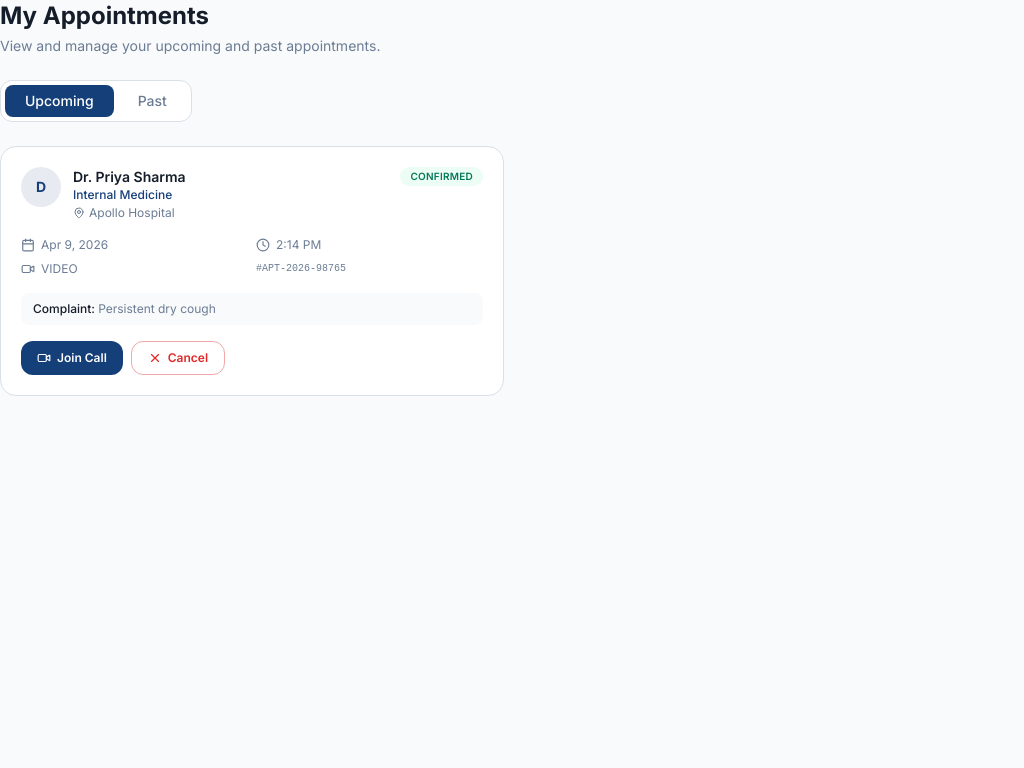
Test: PatientAppointmentsPage › opens cancel modal when Cancel is clicked
This screenshot has width=1024, height=768.
Click the button "Cancel" at x=178, y=358, box [131, 341, 225, 375]
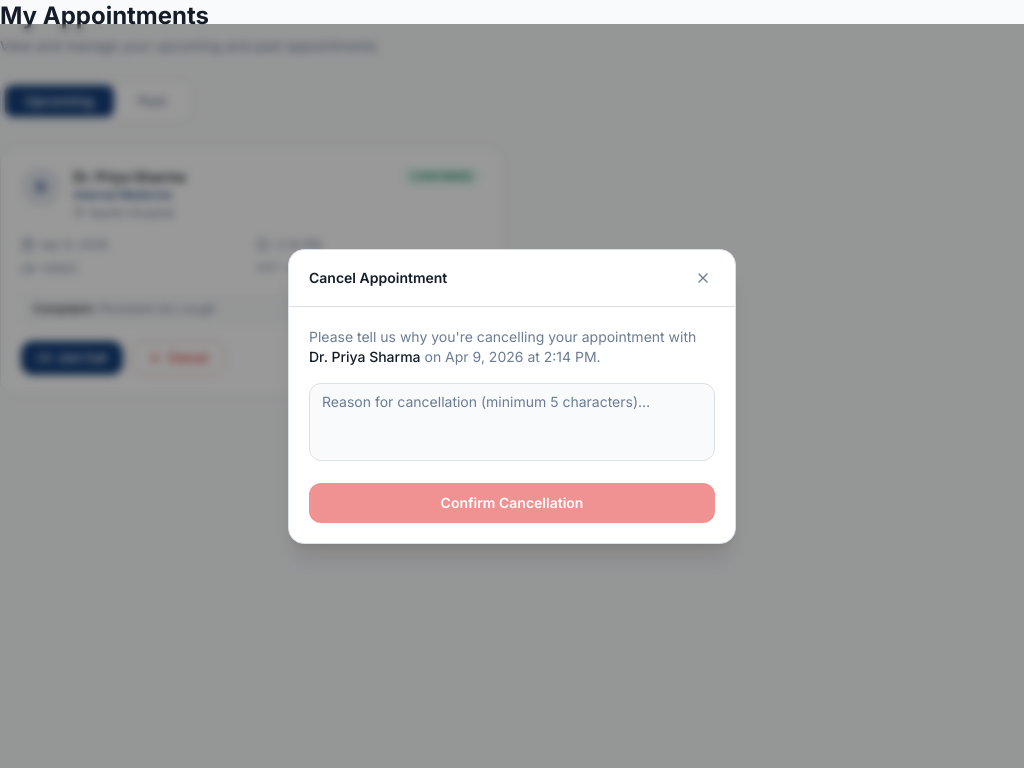
Check: the text "Cancel Appointment" is shown, box [309, 268, 447, 288]
Check: the text box with placeholder "Reason for cancellation (minimum 5 characters)…" is shown, box [309, 382, 715, 460]
